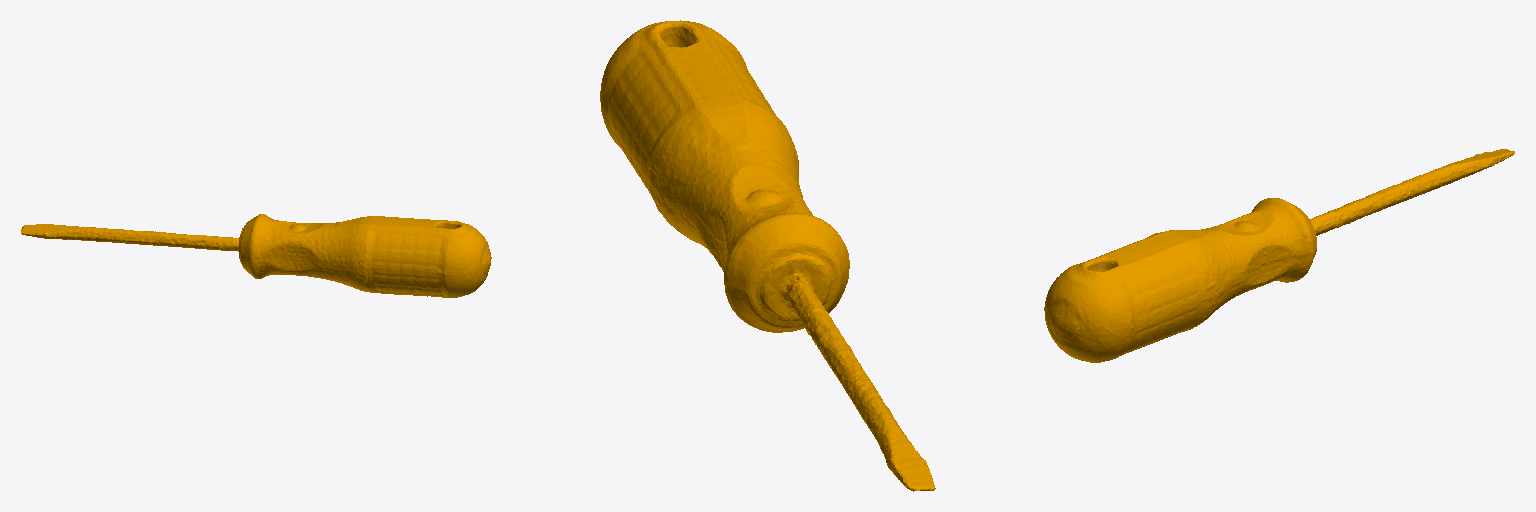
The robot description file, URDF, robot "044_flat_screwdriver":
<?xml version="1.0" ?>
<robot name="044_flat_screwdriver">
  <link name="base_link">
    <inertial>
      <mass value="0.011338475684744373"/>
      <origin rpy="1.89787 -1.44829 -2.66305" xyz="0.00991 -0.00983  0.01548"/>
      <inertia ixx="2.4507604279994093e-05" ixy="1.8027824640053518e-21" ixz="3.749650466282965e-22" iyy="2.4499557117269913e-05" iyz="-3.9668193539693095e-21" izz="1.3059433014544058e-06"/>
    </inertial>
    <collision name="044_flat_screwdriver__collision">
      <origin rpy="0 0 0" xyz="0 0 0"/>
      <geometry>
        <mesh filename="./044_flat_screwdriver_250_collision.stl" scale="1.0 1.0 1.0"/>
      </geometry>
    </collision>
    <visual name="044_flat_screwdriver__visual">
      <origin rpy="0 0 0" xyz="0 0 0"/>
      <geometry>
        <mesh filename="./textured.obj" scale="1.0 1.0 1.0"/>
      </geometry>
    </visual>
  </link>
</robot>

--- What the picture shows (computed from the rendered views, not written in the file) ---
The picture shows the robot from 3 angles, left to right: view 1: azimuth 30°, elevation 25°; view 2: azimuth 150°, elevation 25°; view 3: azimuth 270°, elevation 25°; orthographic projection.
Model 044_flat_screwdriver with 1 links and 0 joints (none), rooted at base_link, posed every joint at zero.
Links seen in each view (by area): view 1: base_link; view 2: base_link; view 3: base_link.
Link boxes in pixels (left/top/right/bottom): base_link: left=21, top=214, right=491, bottom=297; base_link: left=600, top=20, right=935, bottom=491; base_link: left=1044, top=149, right=1514, bottom=362.
Bounding box of the posed robot: 0.1619 × 0.1569 × 0.035 m (x, y, z).
Meshes: 1 distinct files referenced, 1 mesh visuals loaded (1 OBJ).